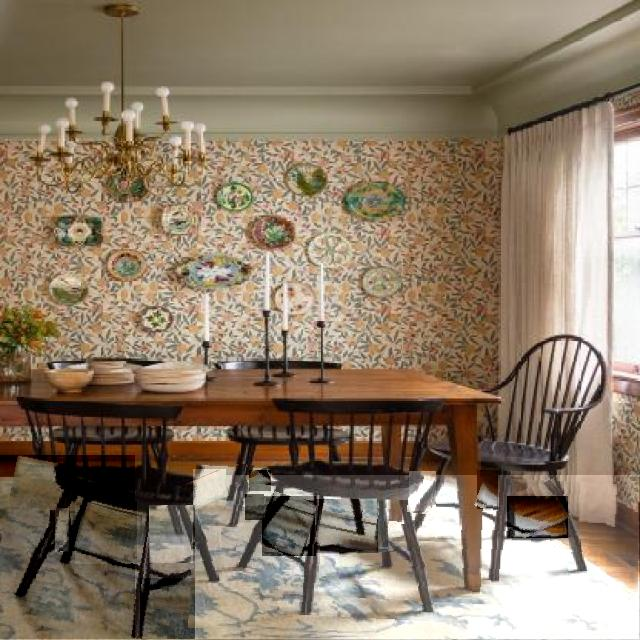floor: (195, 475, 639, 640), (0, 455, 135, 640), (140, 578, 210, 640), (75, 501, 137, 564), (316, 500, 378, 553), (262, 496, 316, 556), (507, 496, 568, 538), (150, 505, 193, 563), (194, 470, 226, 505), (410, 471, 436, 511), (478, 471, 498, 509), (55, 509, 69, 552), (390, 524, 411, 551), (246, 495, 264, 520), (250, 470, 271, 491)
